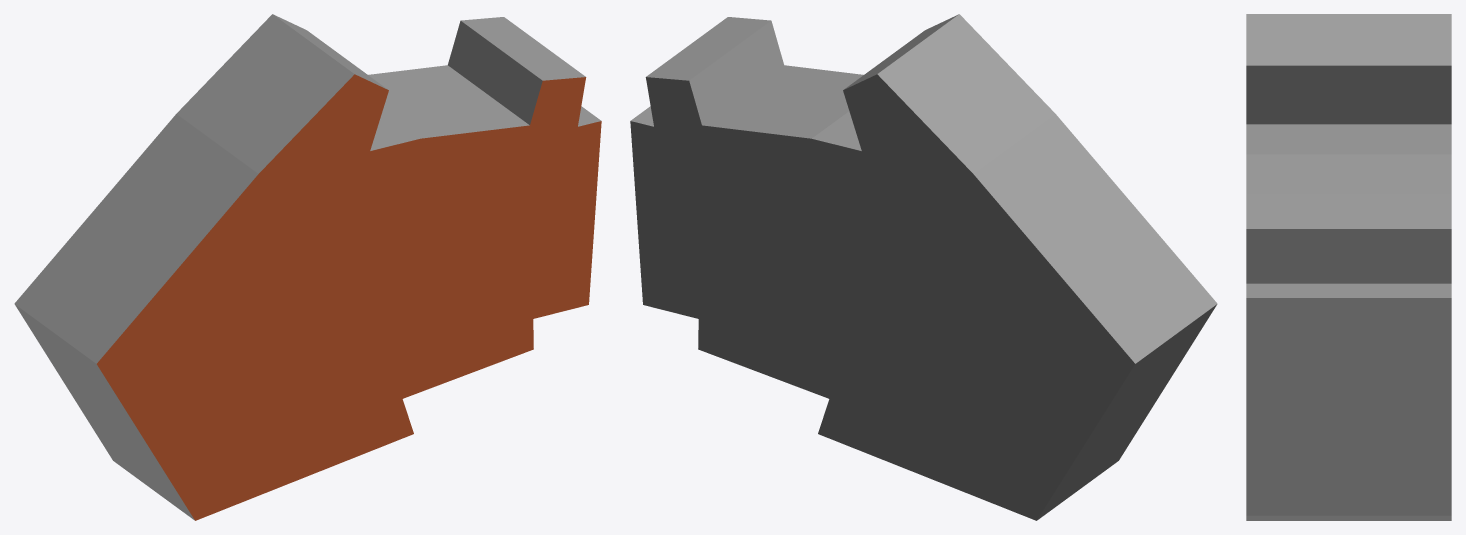
The model's file is construction_6880_assumed_A_Casa_h6m.obj.
The picture shows the model from 3 angles, left to right: view 1: azimuth 30°, elevation 25°; view 2: azimuth 150°, elevation 25°; view 3: azimuth 270°, elevation 25°; orthographic projection. The views are drawn at different scales.
Parts seen in each view (by area): view 1: construction_6880_assumed_A_Casa; view 2: construction_6880_assumed_A_Casa; view 3: construction_6880_assumed_A_Casa.
Boxes of the visible parts, bbox=[...] form: construction_6880_assumed_A_Casa: bbox=[14, 14, 601, 520]; construction_6880_assumed_A_Casa: bbox=[630, 14, 1217, 520]; construction_6880_assumed_A_Casa: bbox=[1246, 14, 1451, 520].
Size of the model in its own units: 21.27 by 16.42 by 6.
